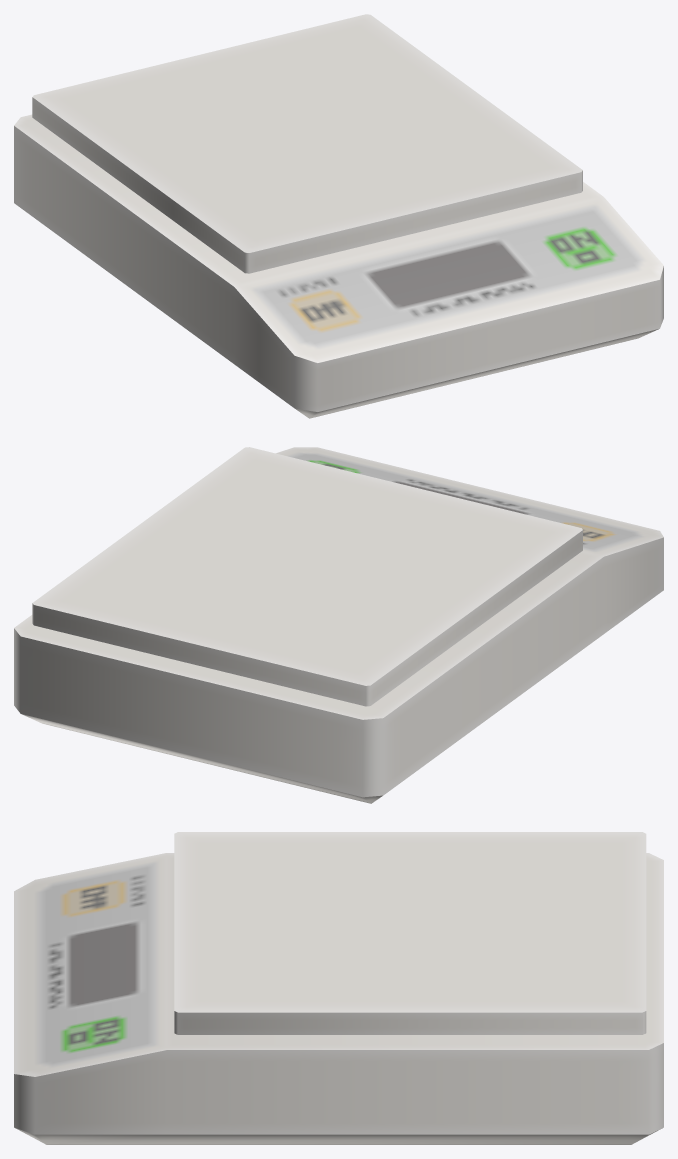
File: KR_Electronic_scale_01_01.fbx
3 views of the same model, one above another, from view 1: azimuth 30°, elevation 25°; view 2: azimuth 150°, elevation 25°; view 3: azimuth 270°, elevation 25° (orthographic). The views are drawn at different scales.
Visible parts, largest first — view 1: display01, weighing_dish01; view 2: weighing_dish01, display01; view 3: display01, weighing_dish01.
Boxes of the visible parts, bbox=[...] form: display01: bbox=[14, 114, 663, 418]; weighing_dish01: bbox=[32, 14, 582, 273]; weighing_dish01: bbox=[32, 447, 582, 706]; display01: bbox=[14, 447, 663, 803]; display01: bbox=[14, 853, 663, 1144]; weighing_dish01: bbox=[174, 832, 646, 1034].
Size of the model in its own units: 11 by 3.5 by 15.32.
